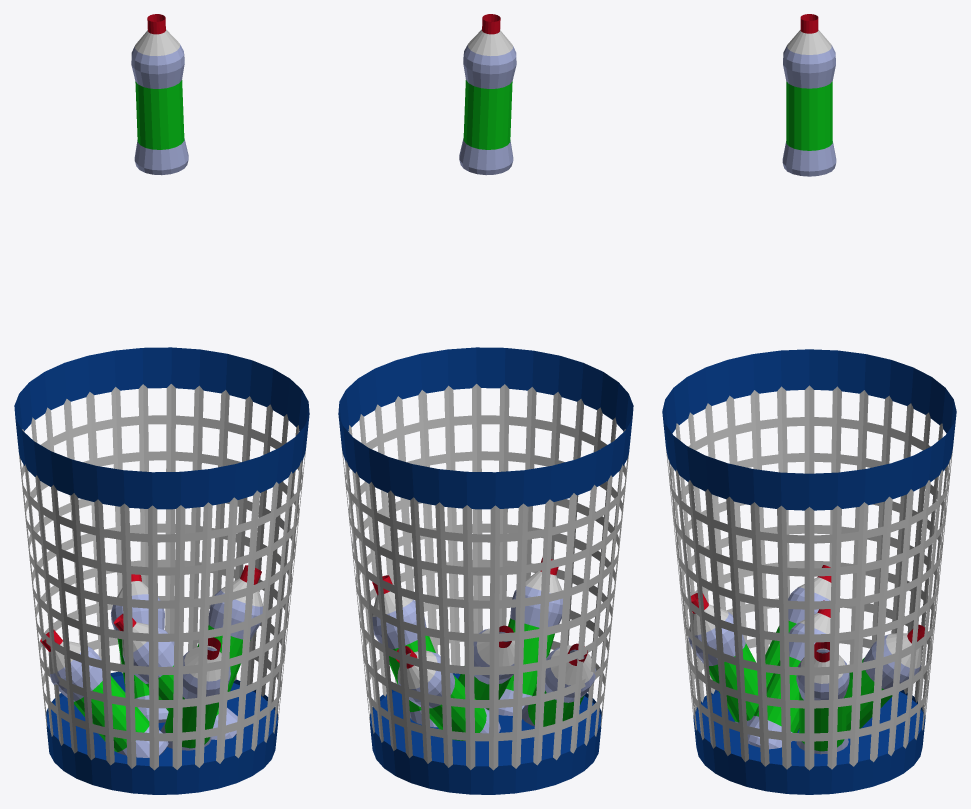
File: DustbinWithCan_000005.obj
3 renders of one model, left to right at view 1: azimuth 30°, elevation 25°; view 2: azimuth 150°, elevation 25°; view 3: azimuth 270°, elevation 25°, orthographic.
Visible parts, largest first — view 1: Cylinder, Plane.006, Plane.005, Plane.001, Plane.004, Plane.003, Plane.002; view 2: Cylinder, Plane.006, Plane.001, Plane.002, Plane.005, Plane.003, Plane.004; view 3: Cylinder, Plane.006, Plane.001, Plane.004, Plane.003, Plane.002, Plane.005.
Part boxes in pixels (x1,y1,x2,y2): Cylinder: [14, 347, 309, 794]; Plane.006: [131, 14, 188, 175]; Plane.005: [40, 629, 168, 757]; Plane.001: [160, 637, 230, 750]; Plane.004: [113, 614, 237, 739]; Plane.003: [197, 565, 262, 691]; Plane.002: [111, 574, 168, 722]; Cylinder: [338, 347, 633, 794]; Plane.006: [459, 14, 516, 175]; Plane.001: [488, 557, 562, 715]; Plane.002: [396, 646, 500, 740]; Plane.005: [522, 643, 596, 726]; Plane.003: [372, 575, 437, 727]; Plane.004: [458, 625, 514, 709]; Cylinder: [662, 349, 956, 794]; Plane.006: [782, 14, 836, 176]; Plane.001: [688, 593, 767, 724]; Plane.004: [747, 600, 830, 749]; Plane.003: [796, 642, 849, 754]; Plane.002: [846, 624, 928, 730]; Plane.005: [765, 565, 831, 683].
Size of the model in its own units: 2.6 by 7.09 by 2.6.
